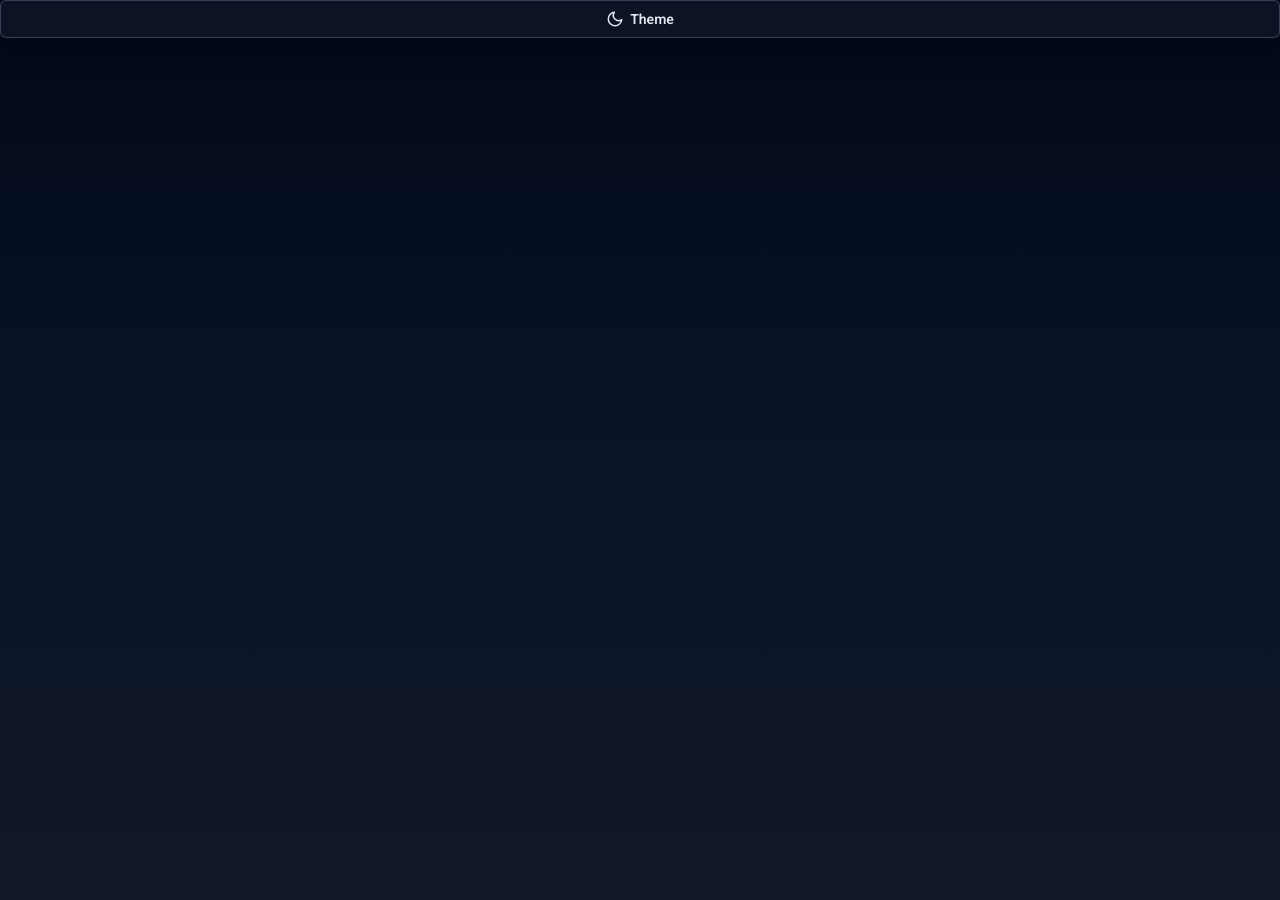
Test case: ThemeSwitcher › cycles from dark to null on click
Step 1. Click the button with aria-label "Theme:" → (640, 19), box [0,0,1279,38]
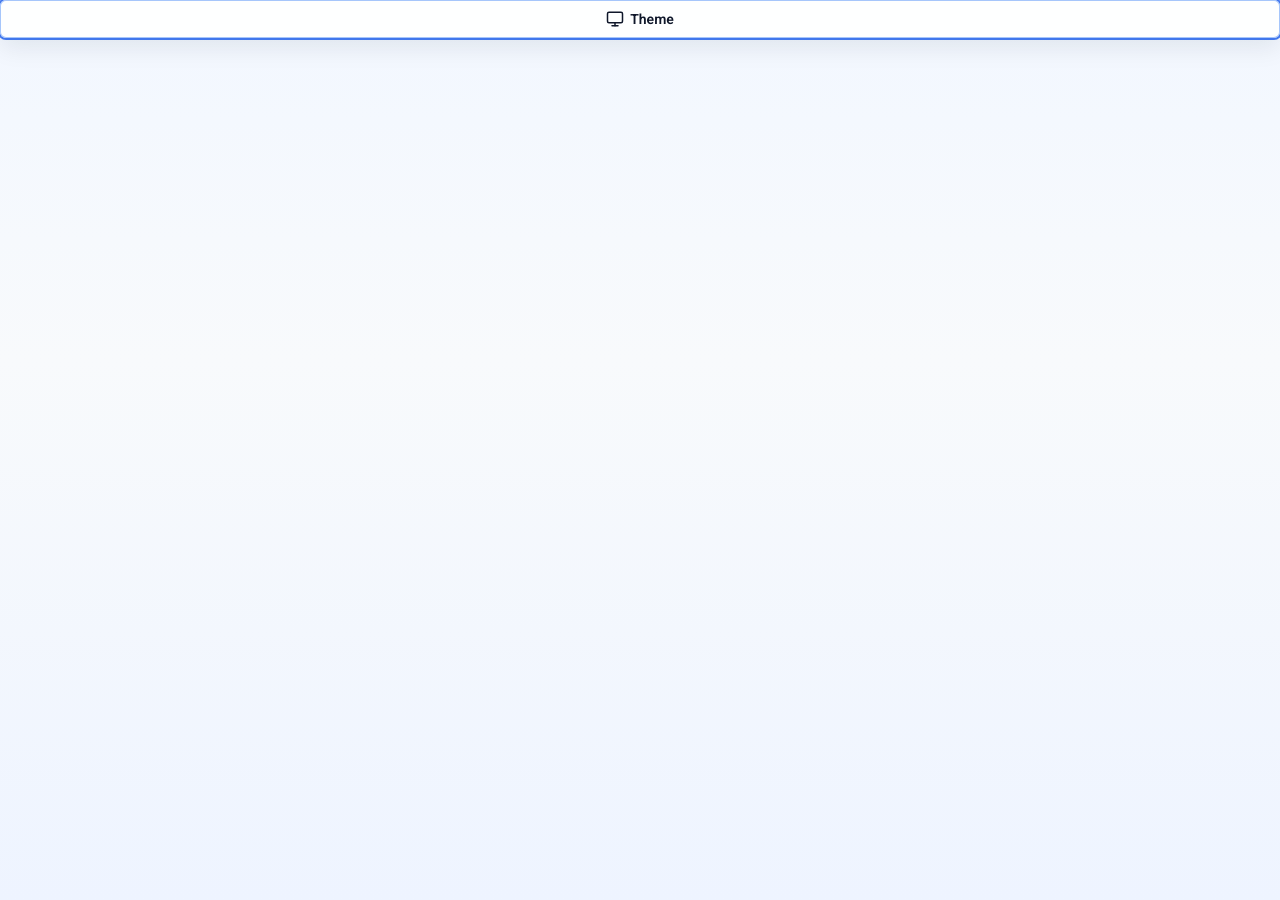
Check: the button with aria-label "Theme: System" is shown, box [0,0,1279,38]
